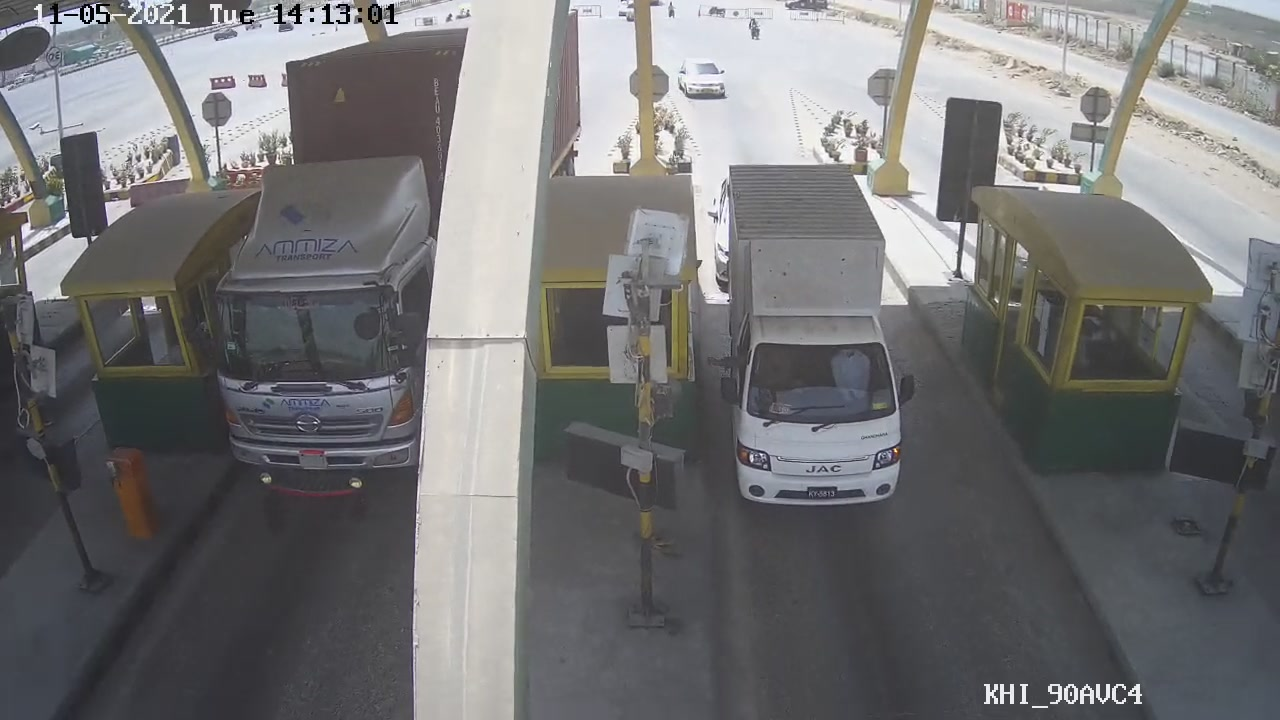F2: (713, 170, 908, 515)
